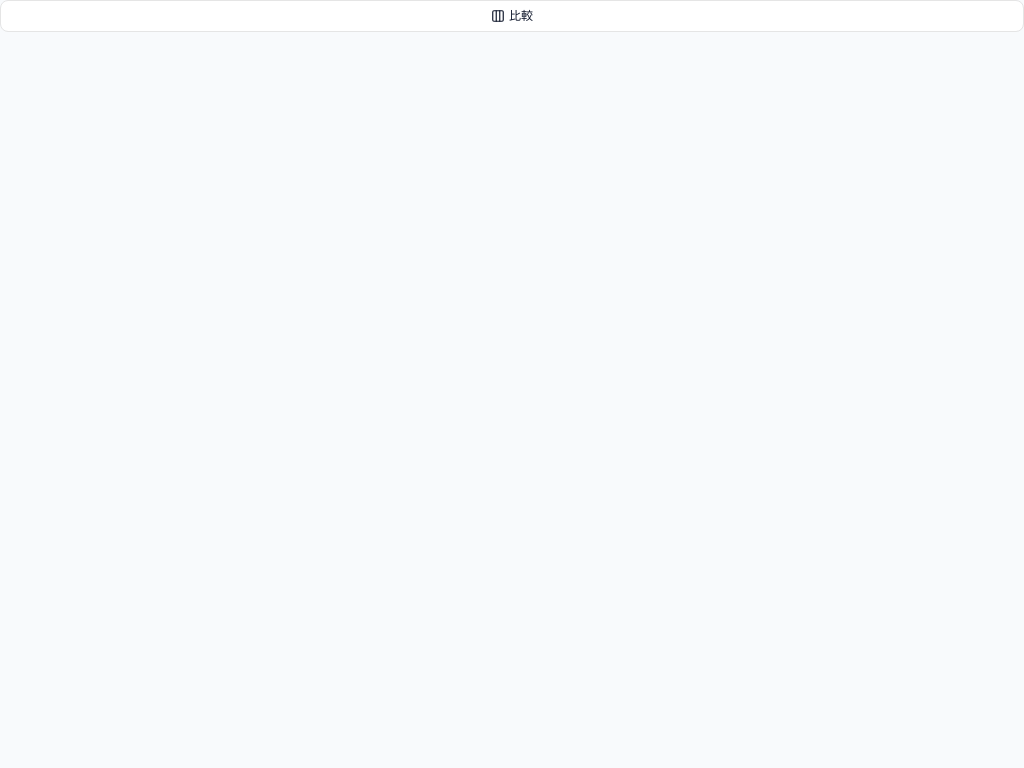
Test: BuildComparisonDialog › パーツの取得に失敗したときはエラーを表示する
Click the button "比較": (512, 16) [0,0,1023,32]
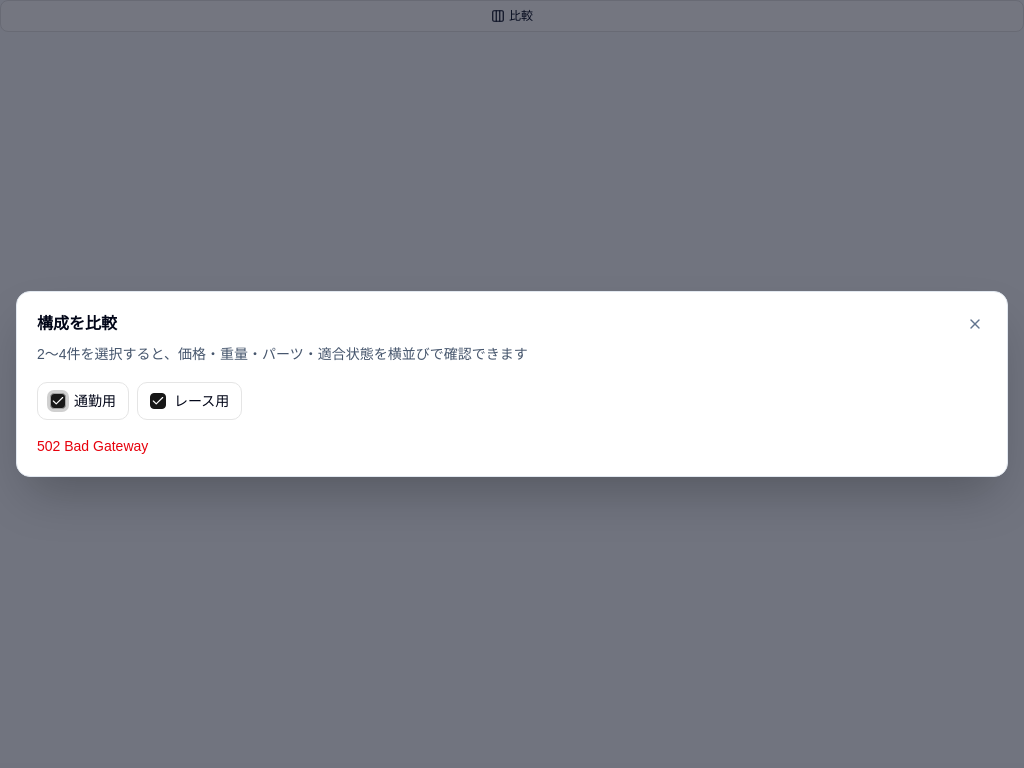
expect the message reads "502 Bad Gateway": met, box [37,438,148,454]
